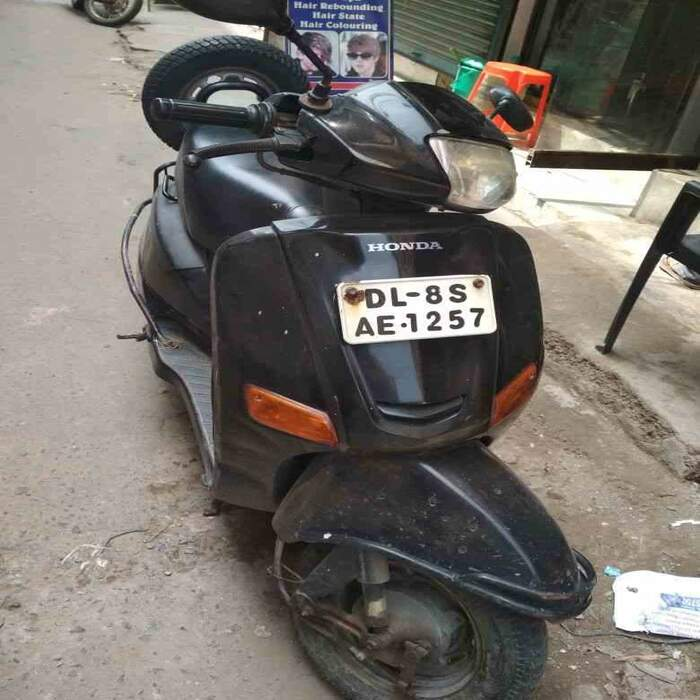n: (330, 282, 505, 340)
